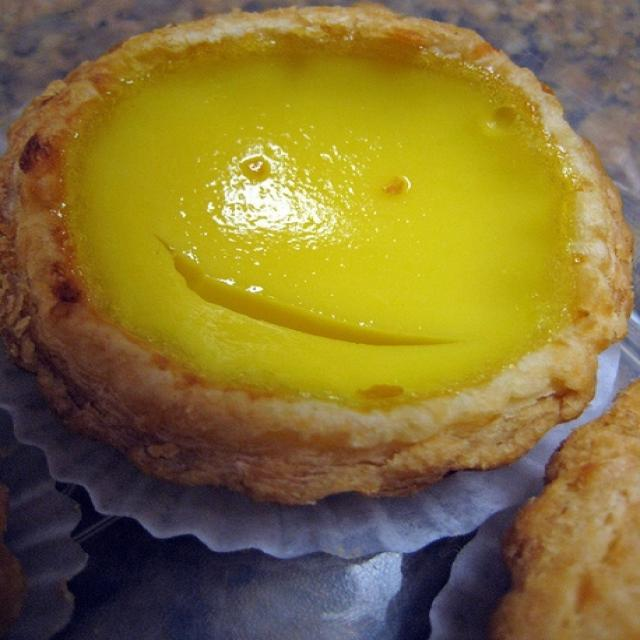炸货点心: (1, 7, 628, 567)
蛋糕甜品: (1, 7, 628, 567)
